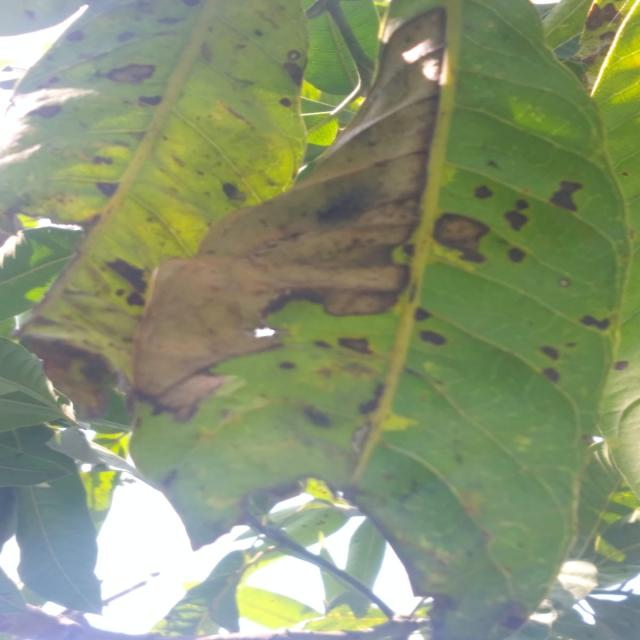Anthracnose: (428, 209, 494, 265), (256, 279, 325, 326), (310, 183, 373, 232), (432, 215, 492, 265), (106, 248, 155, 296), (549, 173, 589, 214), (495, 596, 533, 635), (356, 381, 391, 420), (299, 401, 336, 433), (105, 62, 156, 84), (585, 2, 621, 31), (281, 55, 311, 89), (501, 204, 530, 233), (222, 172, 246, 207), (220, 102, 253, 127), (337, 335, 373, 354), (580, 311, 612, 331), (158, 466, 182, 491), (471, 181, 494, 205), (586, 3, 605, 30), (539, 340, 562, 362), (419, 329, 447, 347), (28, 104, 62, 118), (541, 364, 562, 385), (506, 245, 527, 264), (95, 182, 119, 197), (169, 151, 188, 169), (139, 94, 163, 108), (126, 290, 146, 306), (116, 29, 137, 44), (414, 306, 432, 322), (157, 15, 185, 25), (278, 94, 294, 109), (200, 42, 212, 61), (66, 29, 84, 41), (514, 198, 530, 211), (402, 243, 415, 258), (92, 155, 113, 164), (252, 27, 266, 40), (558, 276, 572, 289), (287, 50, 301, 61), (614, 360, 629, 370), (314, 340, 331, 348), (279, 361, 296, 369), (182, 0, 201, 7), (564, 340, 577, 348), (116, 288, 125, 296)
